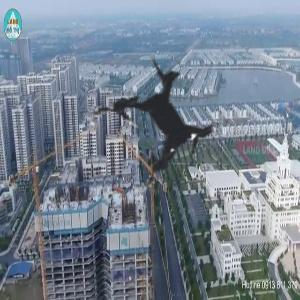drone: (53, 19, 267, 233)
